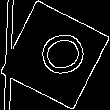O_W: (24, 26, 86, 84)
